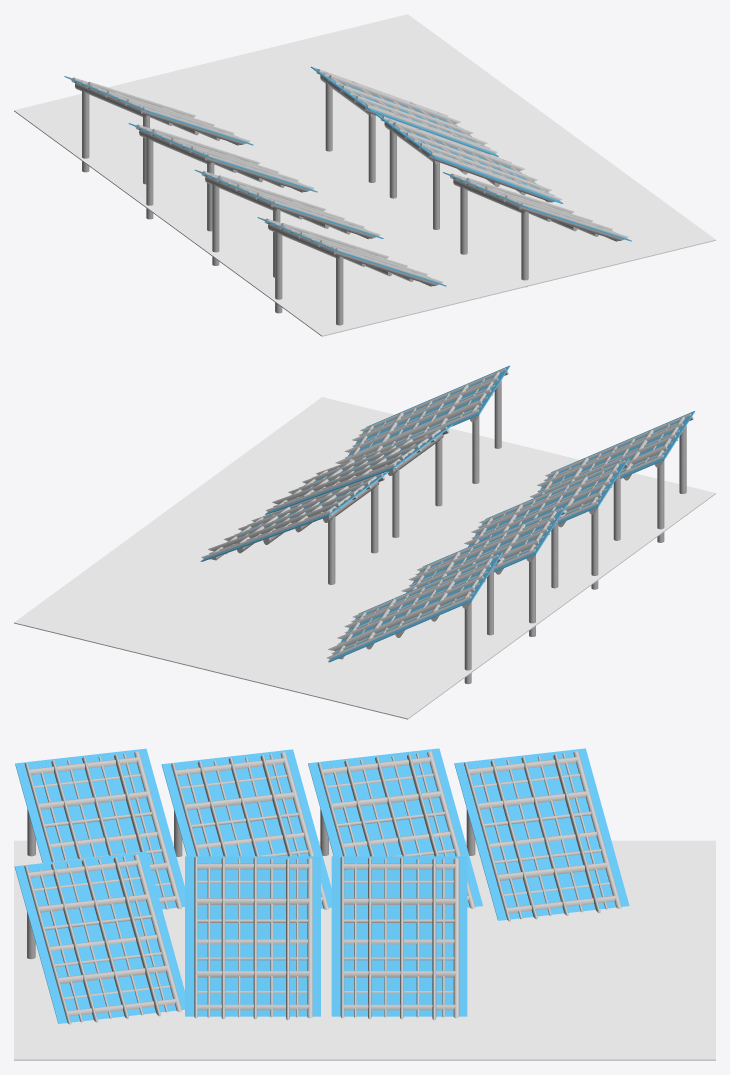
Rendered from solar_farm.glb.
3 views of the same model, one above another, from view 1: azimuth 30°, elevation 25°; view 2: azimuth 150°, elevation 25°; view 3: azimuth 270°, elevation 25° (orthographic). The views are drawn at different scales.
Parts seen in each view (by area): view 1: MESH_MATERIAL_0 (×27); view 2: MESH_MATERIAL_0 (×25); view 3: MESH_MATERIAL_0 (×64).
Part boxes in pixels (bbox=[...]): MESH_MATERIAL_0 (×27): bbox=[14, 14, 715, 336]; MESH_MATERIAL_0 (×25): bbox=[14, 365, 715, 719]; MESH_MATERIAL_0 (×64): bbox=[14, 748, 715, 1060].
Bounding box in the file's own units: 2122 × 484 × 2825.
